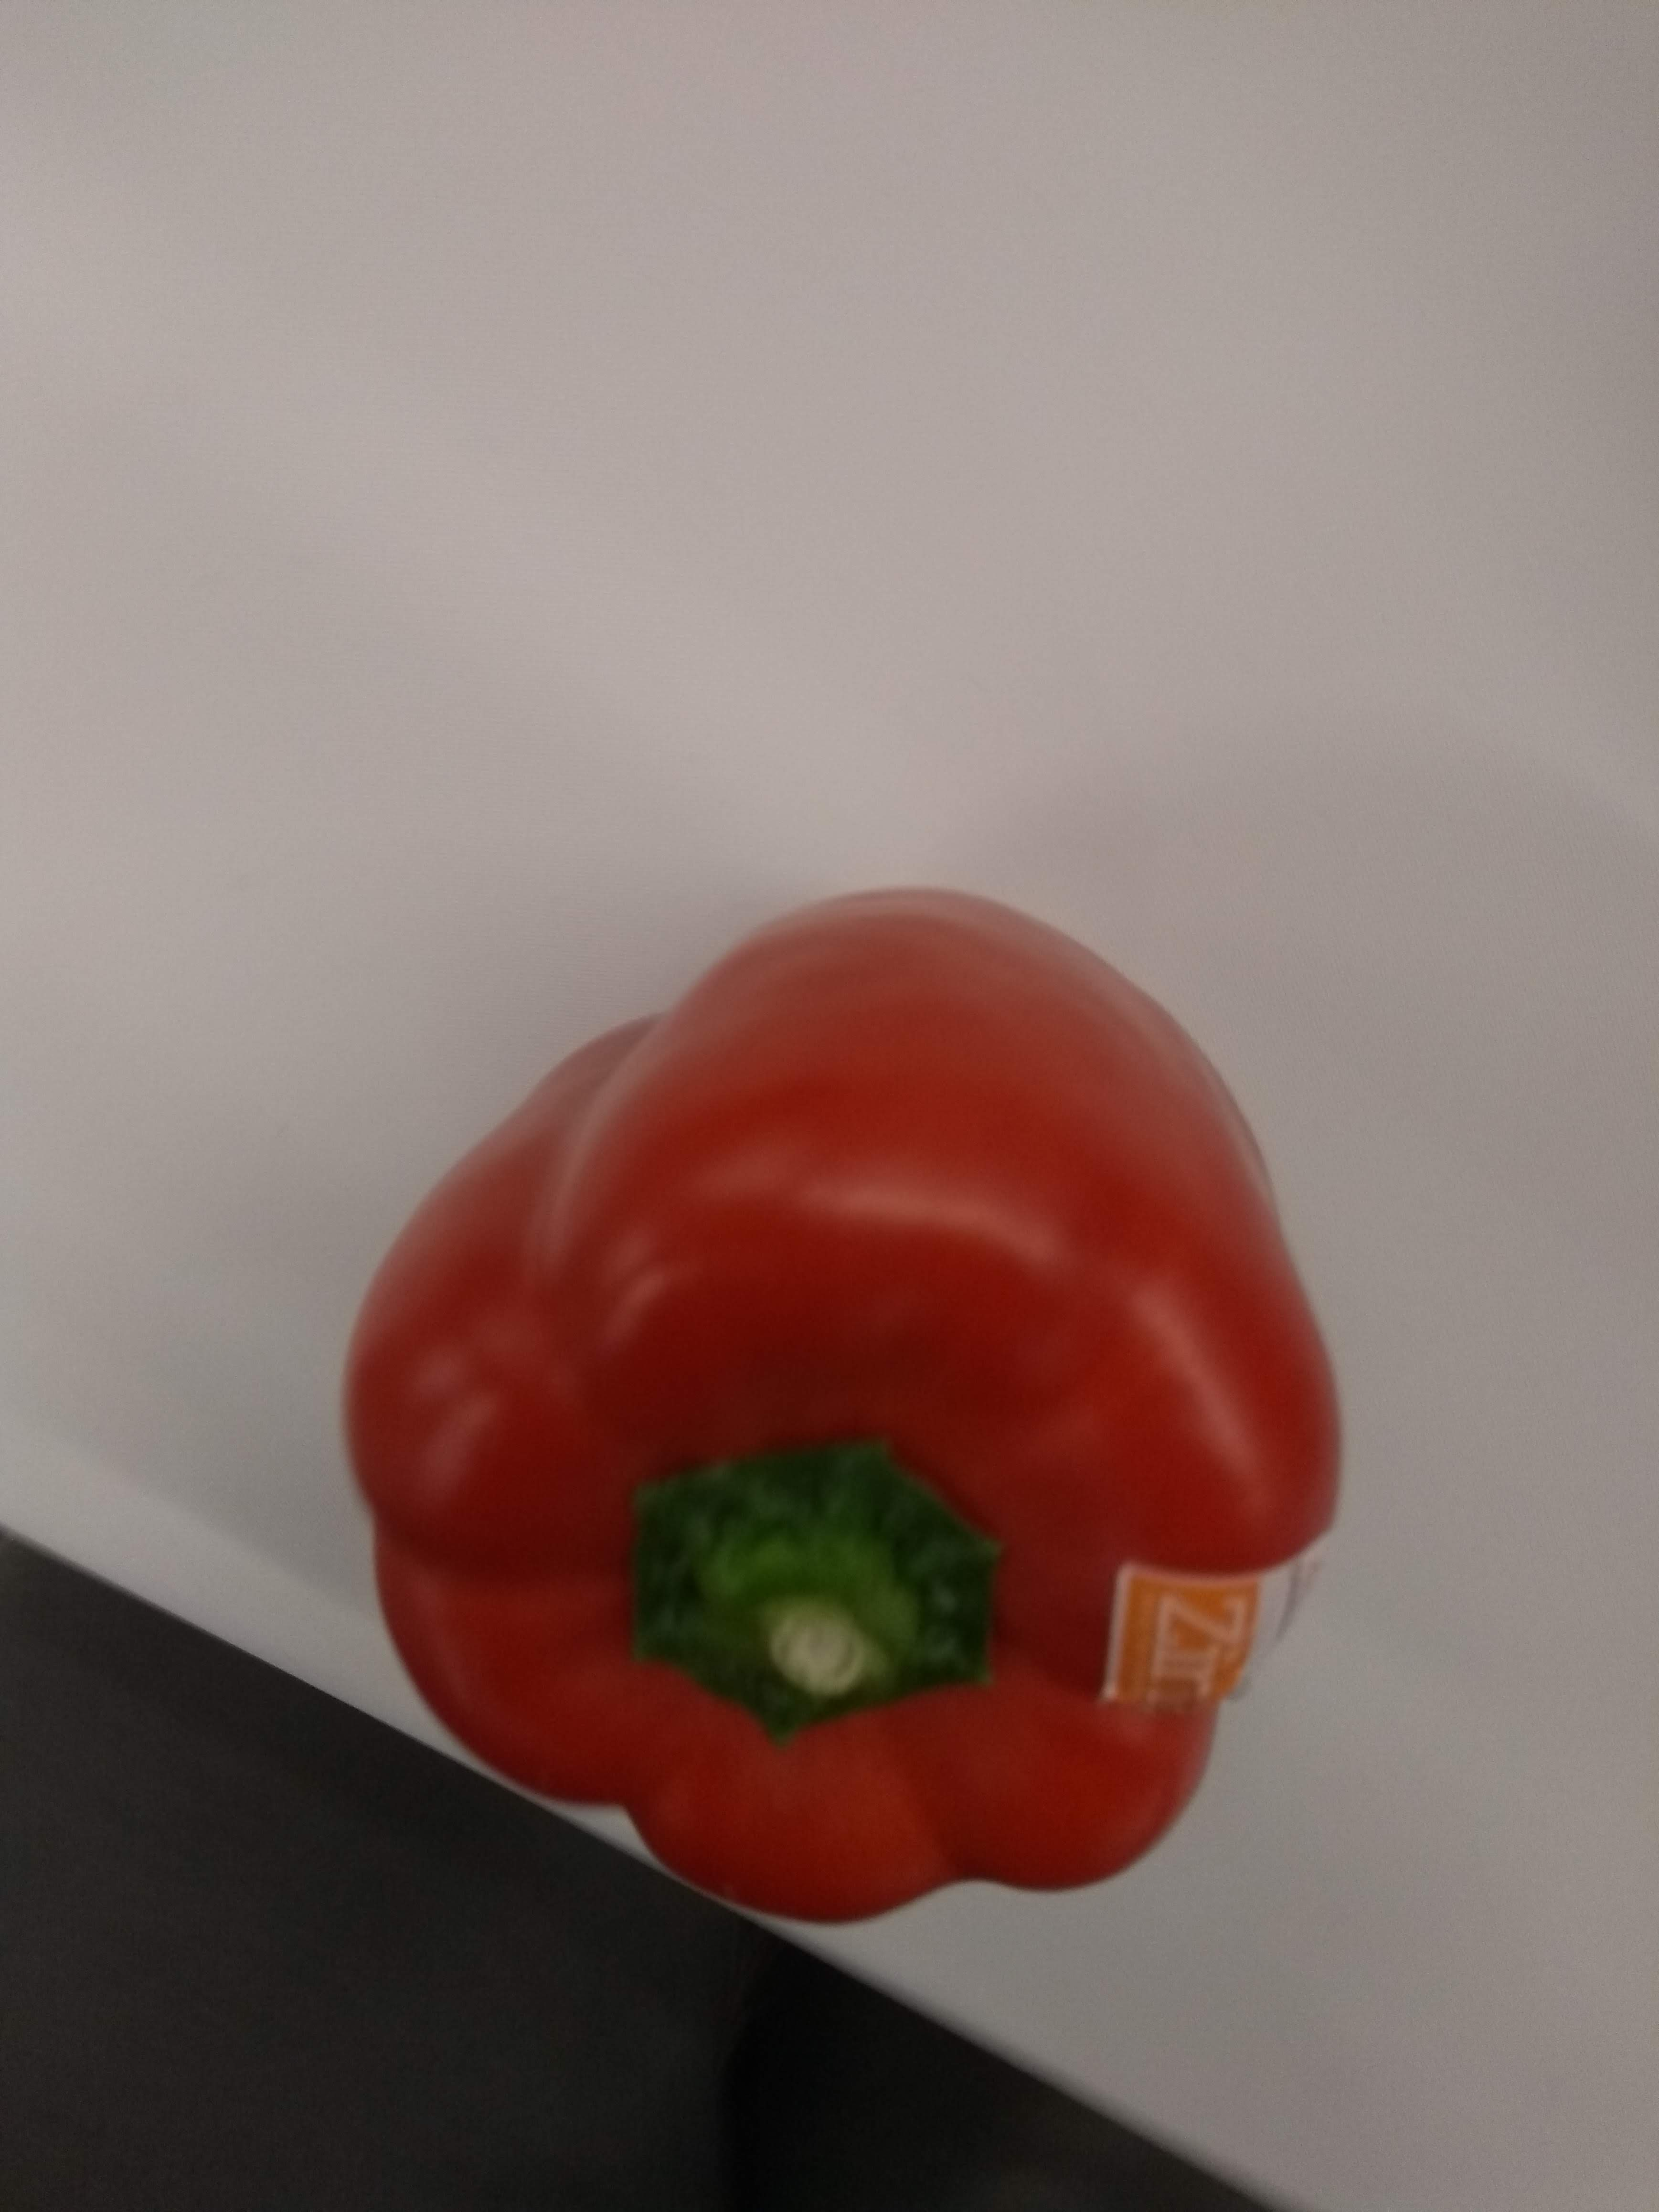paprika: (305, 855, 1356, 1937)
